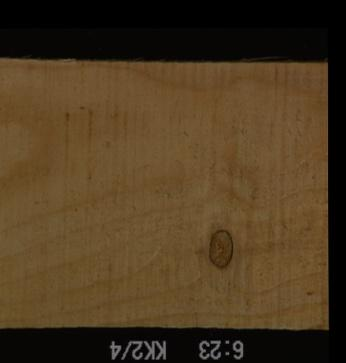dry_knot: (206, 227, 233, 269)
